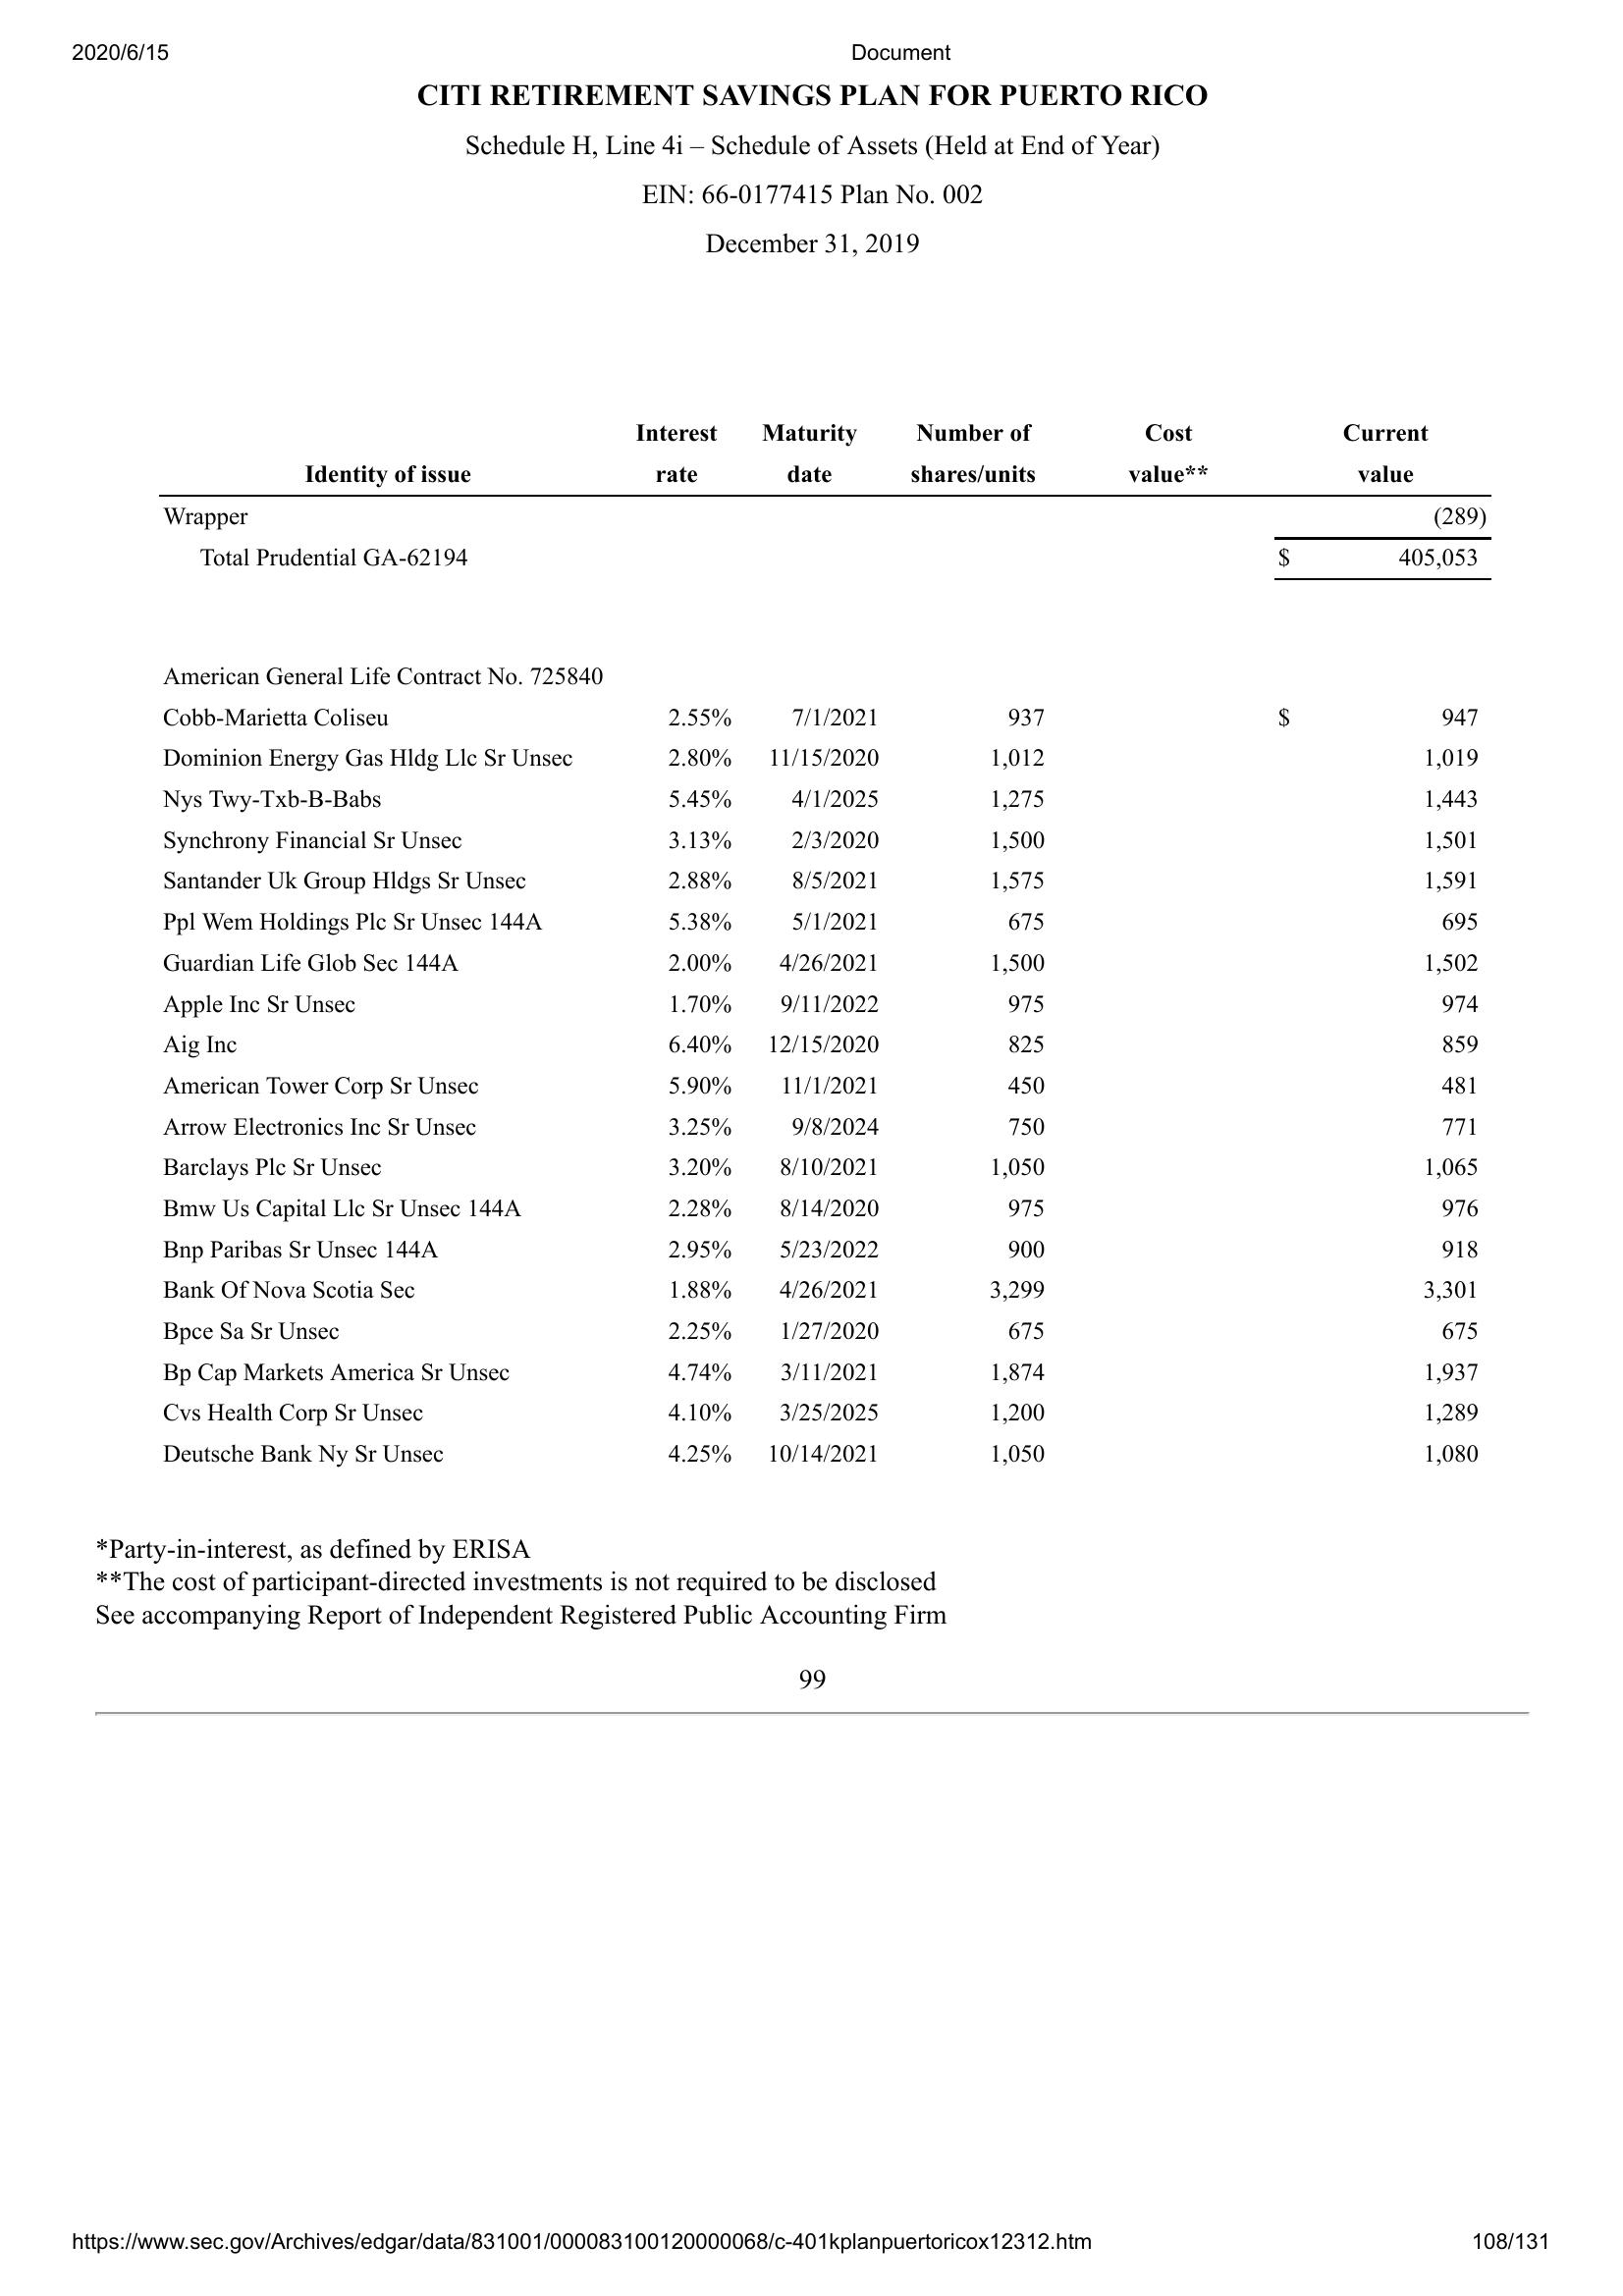table: (146, 416, 1498, 1478)
